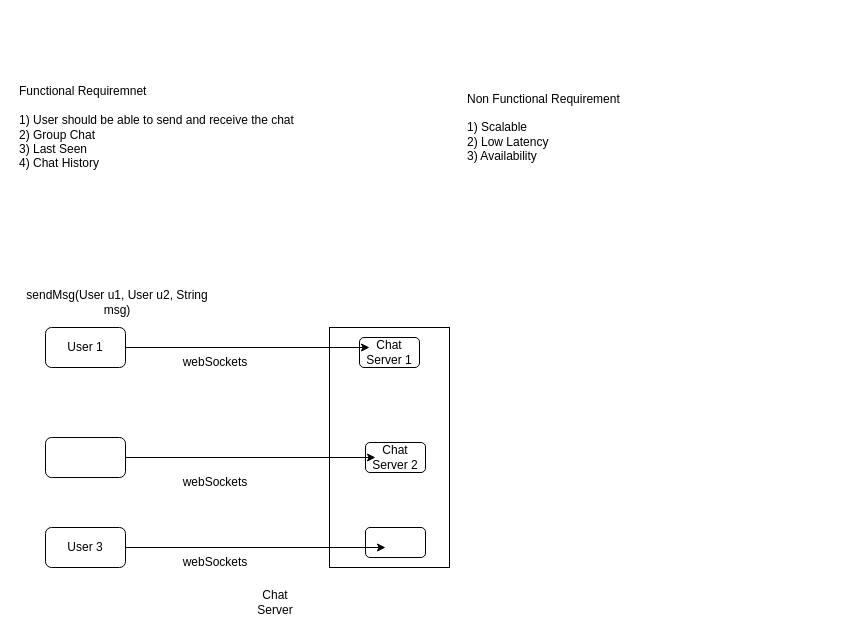
The diagram is 852 pixels wide and 634 high, and some of its shapes have lost their labels. The shapes that lost their labels are listed below. From the top down, each one's centre as x and y in pixels, then its label:
At pixel 85 457: "User 2".
At pixel 395 542: "Chat Server 3".
